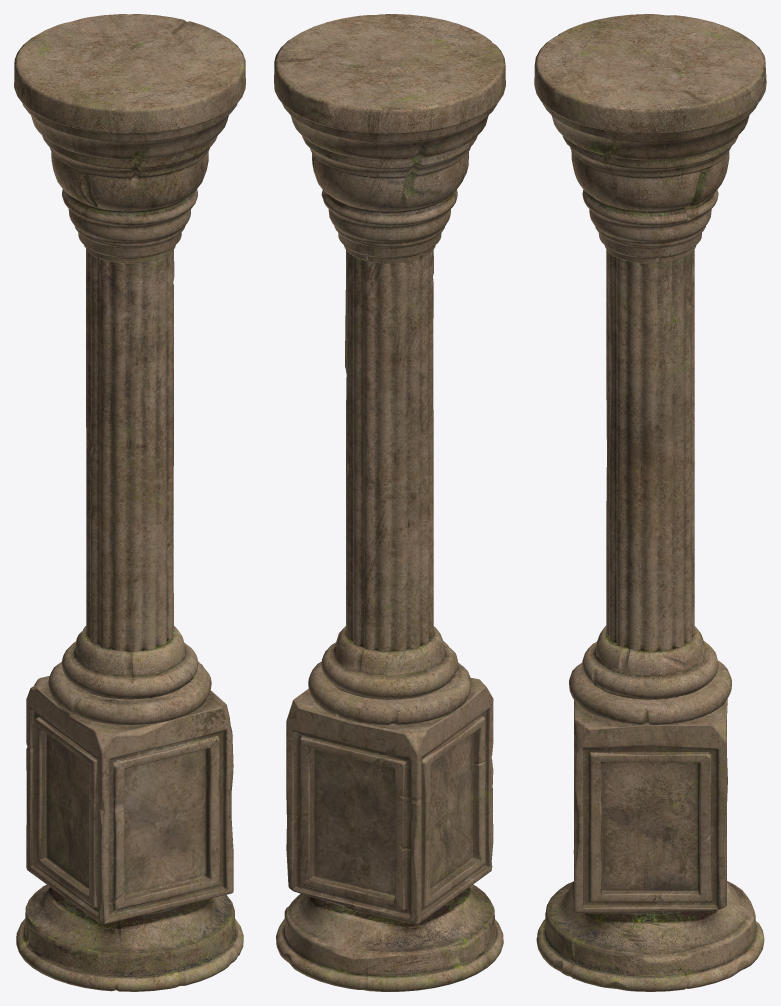
File: greek_underwater_column_1.glb
The picture shows the model from 3 angles, left to right: view 1: azimuth 30°, elevation 25°; view 2: azimuth 150°, elevation 25°; view 3: azimuth 270°, elevation 25°; orthographic projection.
Parts seen in each view (by area): view 1: part_01_a, part_02_a, part_03; view 2: part_01_a, part_02_a, part_03; view 3: part_01_a, part_02_a, part_03.
Boxes of the visible parts, left/top/right/bottom form: part_01_a: left=14, top=14, right=245, bottom=725; part_02_a: left=16, top=249, right=243, bottom=991; part_03: left=26, top=676, right=233, bottom=923; part_01_a: left=274, top=14, right=505, bottom=725; part_02_a: left=276, top=250, right=503, bottom=991; part_03: left=286, top=677, right=493, bottom=924; part_01_a: left=534, top=14, right=766, bottom=725; part_02_a: left=536, top=249, right=764, bottom=991; part_03: left=573, top=699, right=727, bottom=913.
Bounding box in the file's own units: 0.0801 × 0.3365 × 0.0801.
3 materials, 3 textured.
